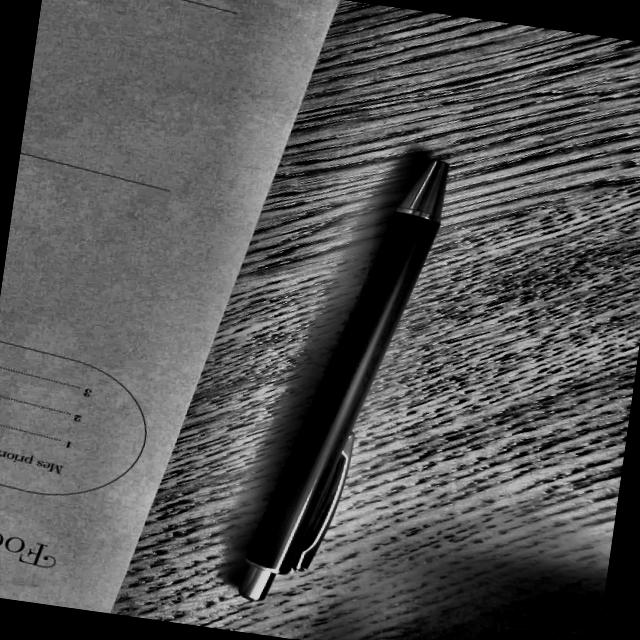Pen: (214, 117, 473, 626)
